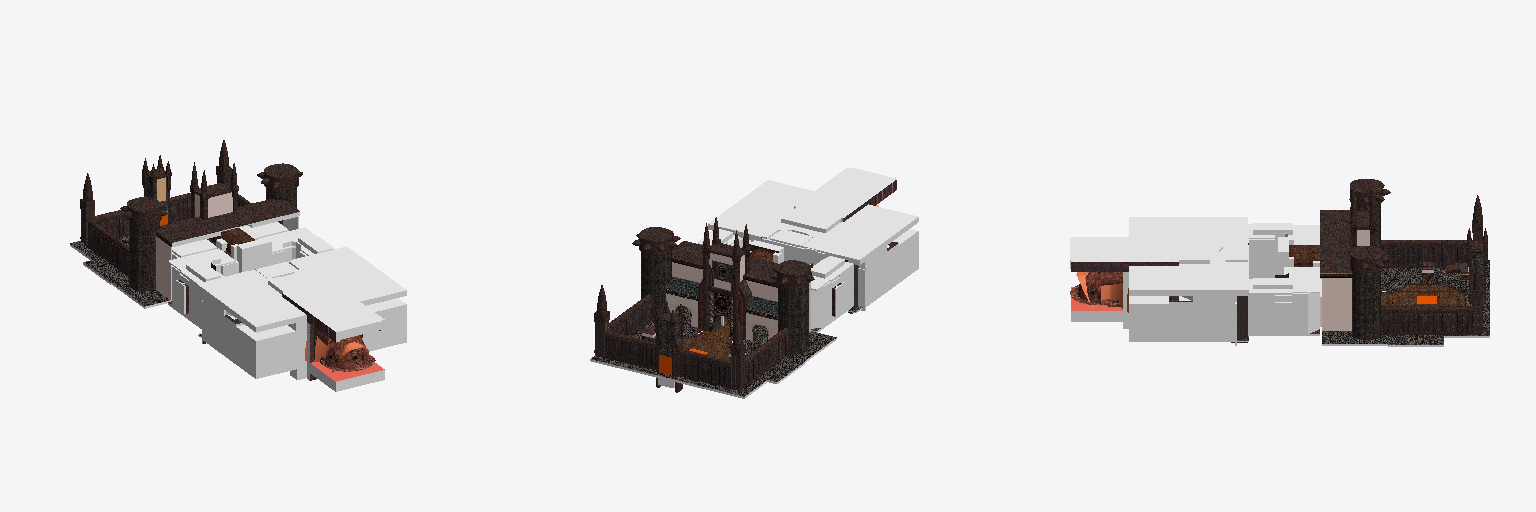
The picture shows the model from 3 angles: view 1: azimuth 30°, elevation 25°; view 2: azimuth 150°, elevation 25°; view 3: azimuth 270°, elevation 25°; orthographic projection.
Visible parts, largest first — view 1: entity0_brush292, entity0_brush597, entity0_brush291, entity0_patch855, entity0_brush314, entity0_brush282, entity0_brush67, entity0_brush289, entity0_brush79, entity0_patch882, entity0_brush132, entity0_brush161 (+5 smaller); view 2: entity0_brush292, entity0_brush597, entity0_brush291, entity0_brush161, entity0_patch855, entity0_patch859, entity0_brush343, entity0_brush159, entity0_brush79, entity0_patch890, entity0_brush160, entity0_brush286 (+2 smaller); view 3: entity0_brush291, entity0_brush597, entity0_brush292, entity0_patch859, entity0_brush160, entity0_brush131, entity0_brush159, entity0_brush545, entity0_brush313, entity0_brush251, entity0_brush216, entity0_brush288 (+10 smaller).
Boxes of the visible parts, x1=… form: entity0_brush292: x1=197, y1=271, x2=306, y2=332; entity0_brush597: x1=268, y1=270, x2=382, y2=339; entity0_brush291: x1=293, y1=246, x2=406, y2=304; entity0_patch855: x1=129, y1=221, x2=159, y2=291; entity0_brush314: x1=232, y1=324, x2=296, y2=355; entity0_brush282: x1=310, y1=362, x2=384, y2=391; entity0_brush67: x1=156, y1=216, x2=220, y2=246; entity0_brush289: x1=232, y1=339, x2=296, y2=373; entity0_brush79: x1=237, y1=199, x2=299, y2=227; entity0_patch882: x1=325, y1=336, x2=367, y2=368; entity0_brush132: x1=156, y1=236, x2=171, y2=299; entity0_brush161: x1=97, y1=201, x2=190, y2=236; entity0_brush292: x1=807, y1=204, x2=918, y2=265; entity0_brush597: x1=781, y1=168, x2=895, y2=232; entity0_brush291: x1=708, y1=180, x2=813, y2=240; entity0_brush161: x1=605, y1=338, x2=730, y2=386; entity0_patch855: x1=778, y1=284, x2=808, y2=354; entity0_patch859: x1=641, y1=250, x2=671, y2=320; entity0_brush343: x1=616, y1=362, x2=756, y2=398; entity0_brush159: x1=745, y1=335, x2=788, y2=384; entity0_brush79: x1=671, y1=241, x2=702, y2=268; entity0_patch890: x1=605, y1=331, x2=730, y2=365; entity0_brush160: x1=611, y1=302, x2=651, y2=335; entity0_brush286: x1=840, y1=179, x2=896, y2=221; entity0_brush291: x1=1129, y1=264, x2=1248, y2=295; entity0_brush597: x1=1070, y1=238, x2=1209, y2=268; entity0_brush292: x1=1129, y1=217, x2=1247, y2=241; entity0_patch859: x1=1352, y1=271, x2=1380, y2=339; entity0_brush160: x1=1381, y1=314, x2=1472, y2=331; entity0_brush131: x1=1322, y1=278, x2=1351, y2=330; entity0_brush159: x1=1381, y1=248, x2=1466, y2=264; entity0_brush545: x1=1248, y1=294, x2=1274, y2=333; entity0_brush313: x1=1129, y1=296, x2=1177, y2=318; entity0_brush251: x1=1178, y1=319, x2=1234, y2=336; entity0_brush216: x1=1249, y1=239, x2=1274, y2=278; entity0_brush288: x1=1071, y1=260, x2=1178, y2=271.
Size of the model in its own units: 766 by 511 by 1526.
Materials: 80 (52 with a texture image).